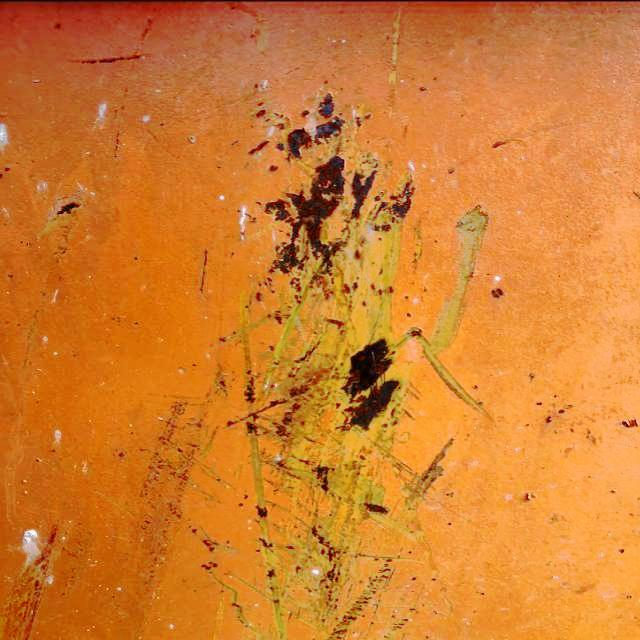Corrosion: (188, 92, 416, 586), (49, 198, 82, 221)
